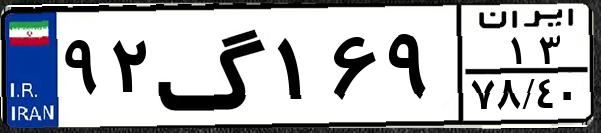0: (560, 70, 590, 125)
1: (270, 28, 330, 110), (508, 27, 537, 80)
2: (110, 28, 156, 98)
3: (537, 27, 568, 80)
4: (535, 70, 560, 125)
6: (330, 28, 385, 110)
7: (470, 70, 495, 125)
8: (495, 70, 520, 125)
9: (385, 28, 445, 110), (57, 26, 110, 100)
گ: (156, 12, 270, 120)
